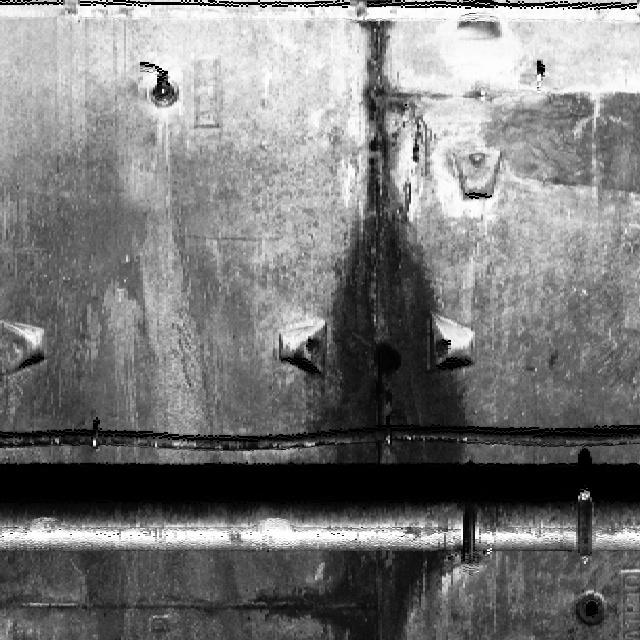leakage: (257, 1, 482, 639)
